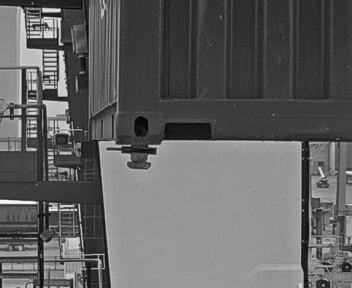twist_lock_1: (113, 137, 162, 177)
